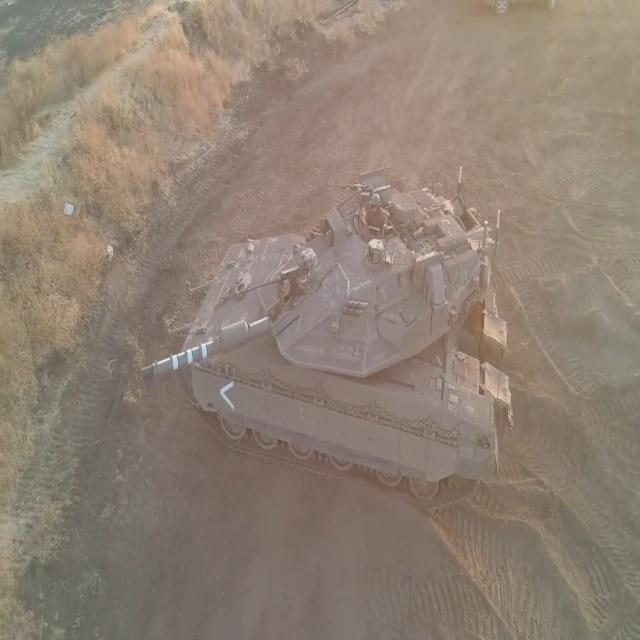tank: (133, 161, 530, 535)
